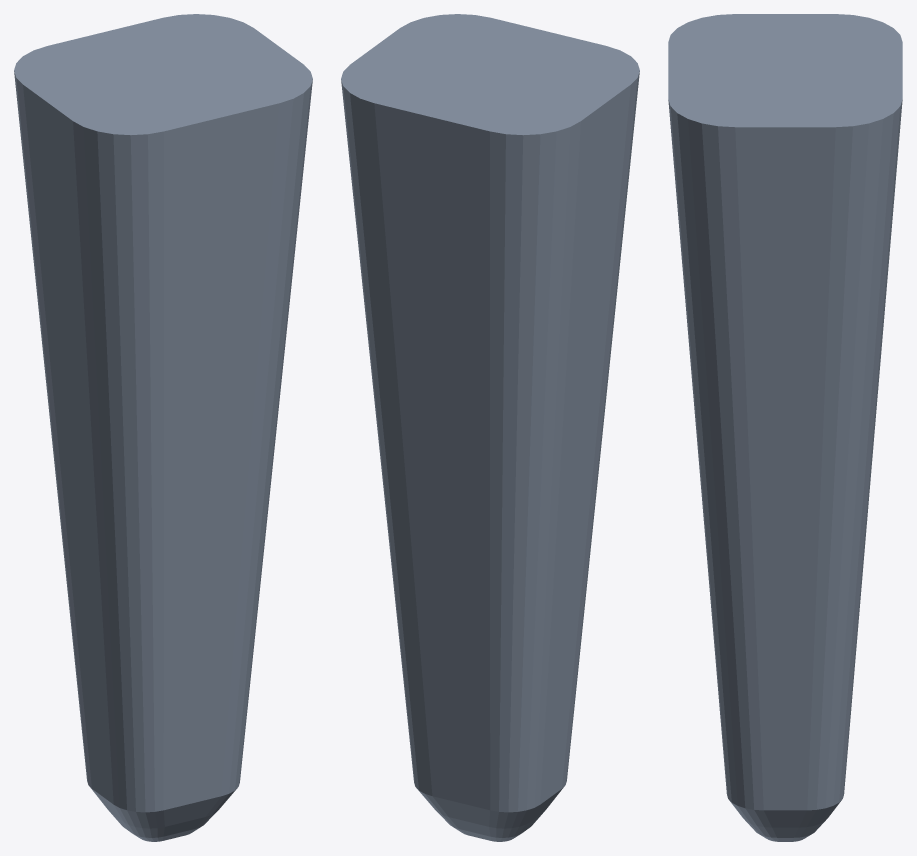
The model's file is SM_S1_Proue.obj.
3 views of the same model, side by side, from view 1: azimuth 30°, elevation 25°; view 2: azimuth 150°, elevation 25°; view 3: azimuth 270°, elevation 25° (orthographic).
Size of the model in its own units: 8000 by 25000 by 7000.
